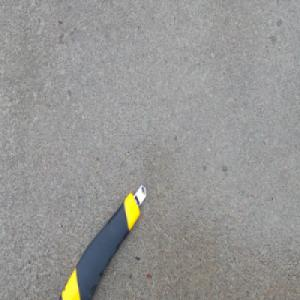Cutter: (58, 181, 149, 299)
